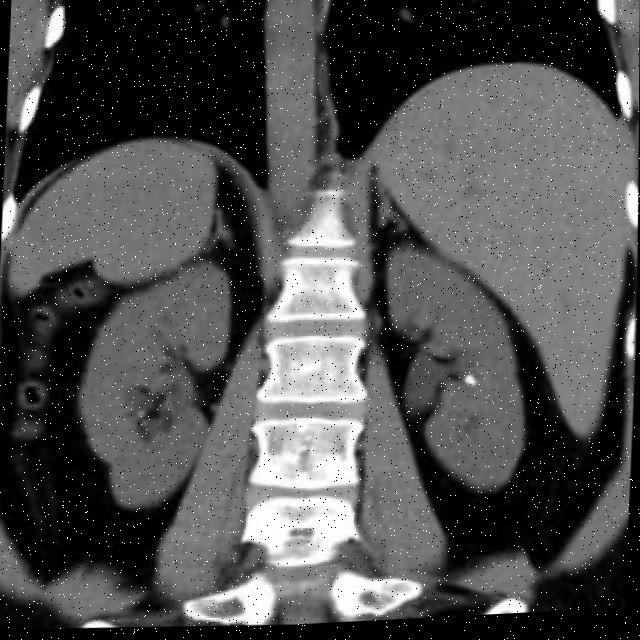Tas_Var: (463, 373, 480, 395)
